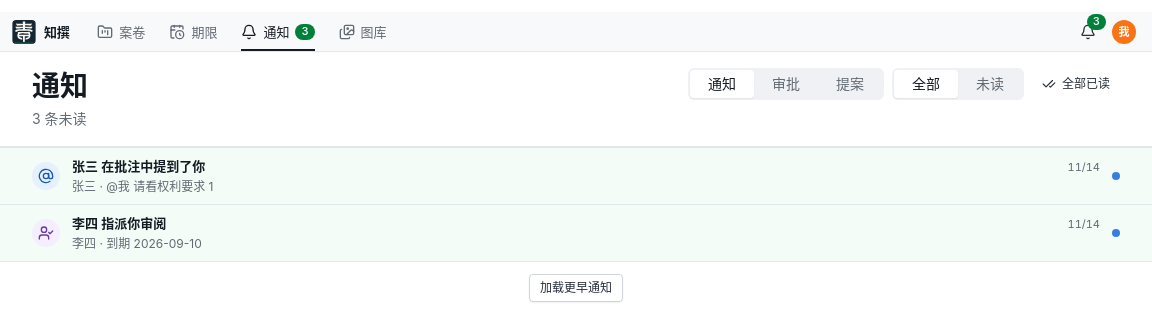
Scenario: InboxPage（§4.2 通知页） › R115-批21：has_more →「加载更早」按末位 id 游标翻页，去重拼接后按钮消失
This screenshot has width=1152, height=335.
Click the button with test id "inbox-load-more".
click(576, 288)  # box [529, 274, 623, 302]
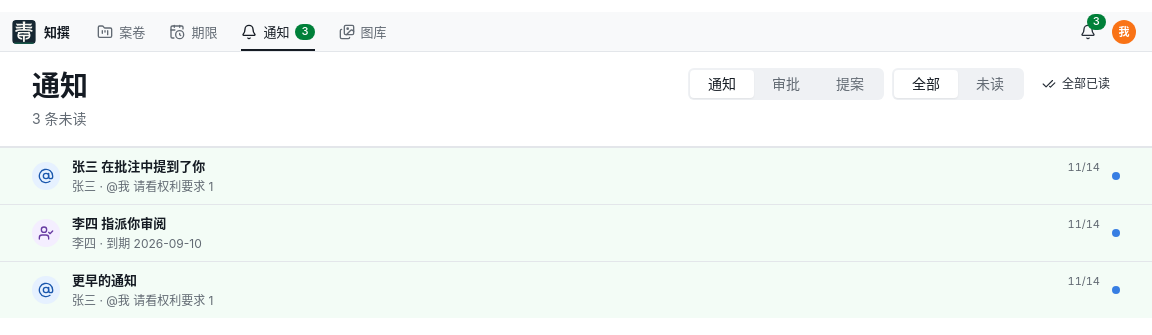
Expected: the button with test id "inbox-load-more" is gone
